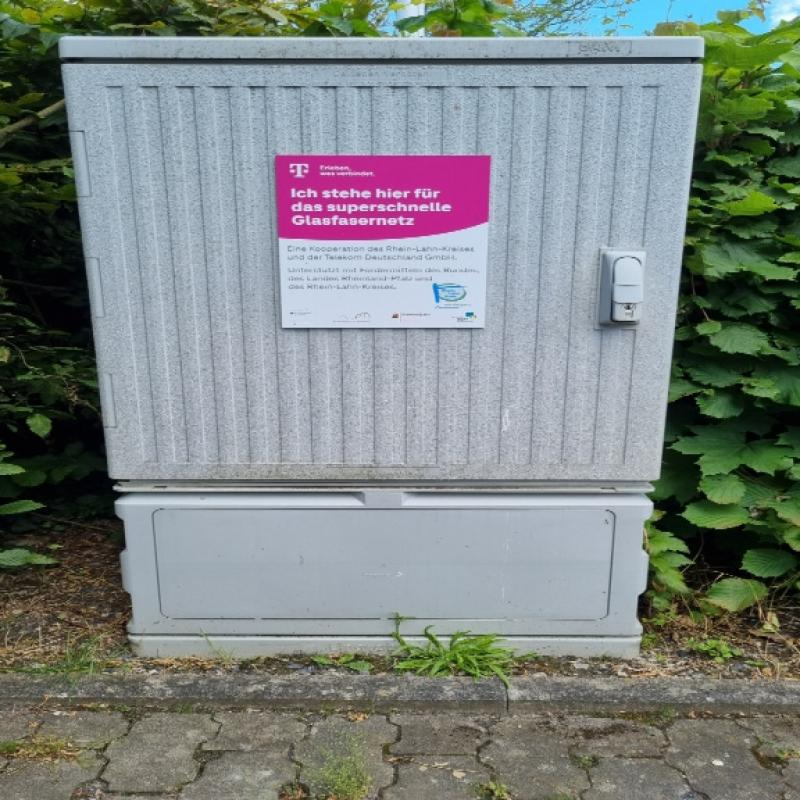NT-Gehause: (63, 38, 703, 660)
Steaker: (278, 152, 488, 331)
